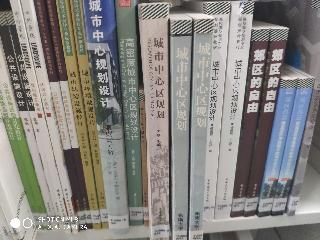book-spine: (11, 0, 71, 235), (3, 1, 63, 230), (0, 1, 58, 231), (21, 0, 78, 233), (36, 0, 86, 230), (46, 1, 92, 229), (57, 0, 101, 229), (84, 0, 128, 229), (209, 0, 254, 220), (241, 27, 288, 217), (0, 52, 49, 230), (191, 1, 230, 221), (71, 1, 108, 229), (226, 28, 270, 218), (141, 6, 174, 239), (184, 19, 213, 239), (269, 76, 314, 217), (0, 86, 42, 231), (116, 1, 142, 224), (256, 78, 297, 217), (287, 75, 320, 217), (171, 21, 190, 240), (139, 90, 148, 225)
